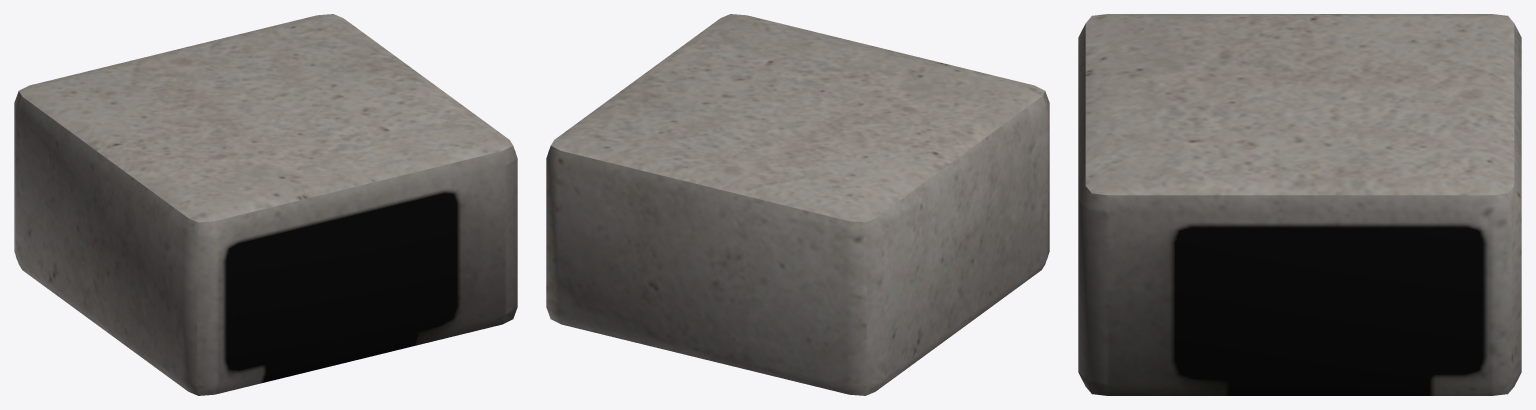
Rendered from BrickWall_Short_TrimCorner_01.FBX.
3 views of the same model, side by side, from view 1: azimuth 30°, elevation 25°; view 2: azimuth 150°, elevation 25°; view 3: azimuth 270°, elevation 25° (orthographic). The views are drawn at different scales.
Visible parts, largest first — view 1: ShortWall_Brick01_TrimCorner; view 2: ShortWall_Brick01_TrimCorner; view 3: ShortWall_Brick01_TrimCorner.
Boxes of the visible parts, <box> form: ShortWall_Brick01_TrimCorner: <box>14,14,517,395</box>; ShortWall_Brick01_TrimCorner: <box>546,14,1049,395</box>; ShortWall_Brick01_TrimCorner: <box>1078,14,1521,395</box>.
Bounding box in the file's own units: 0.417 × 0.2181 × 0.4168.
